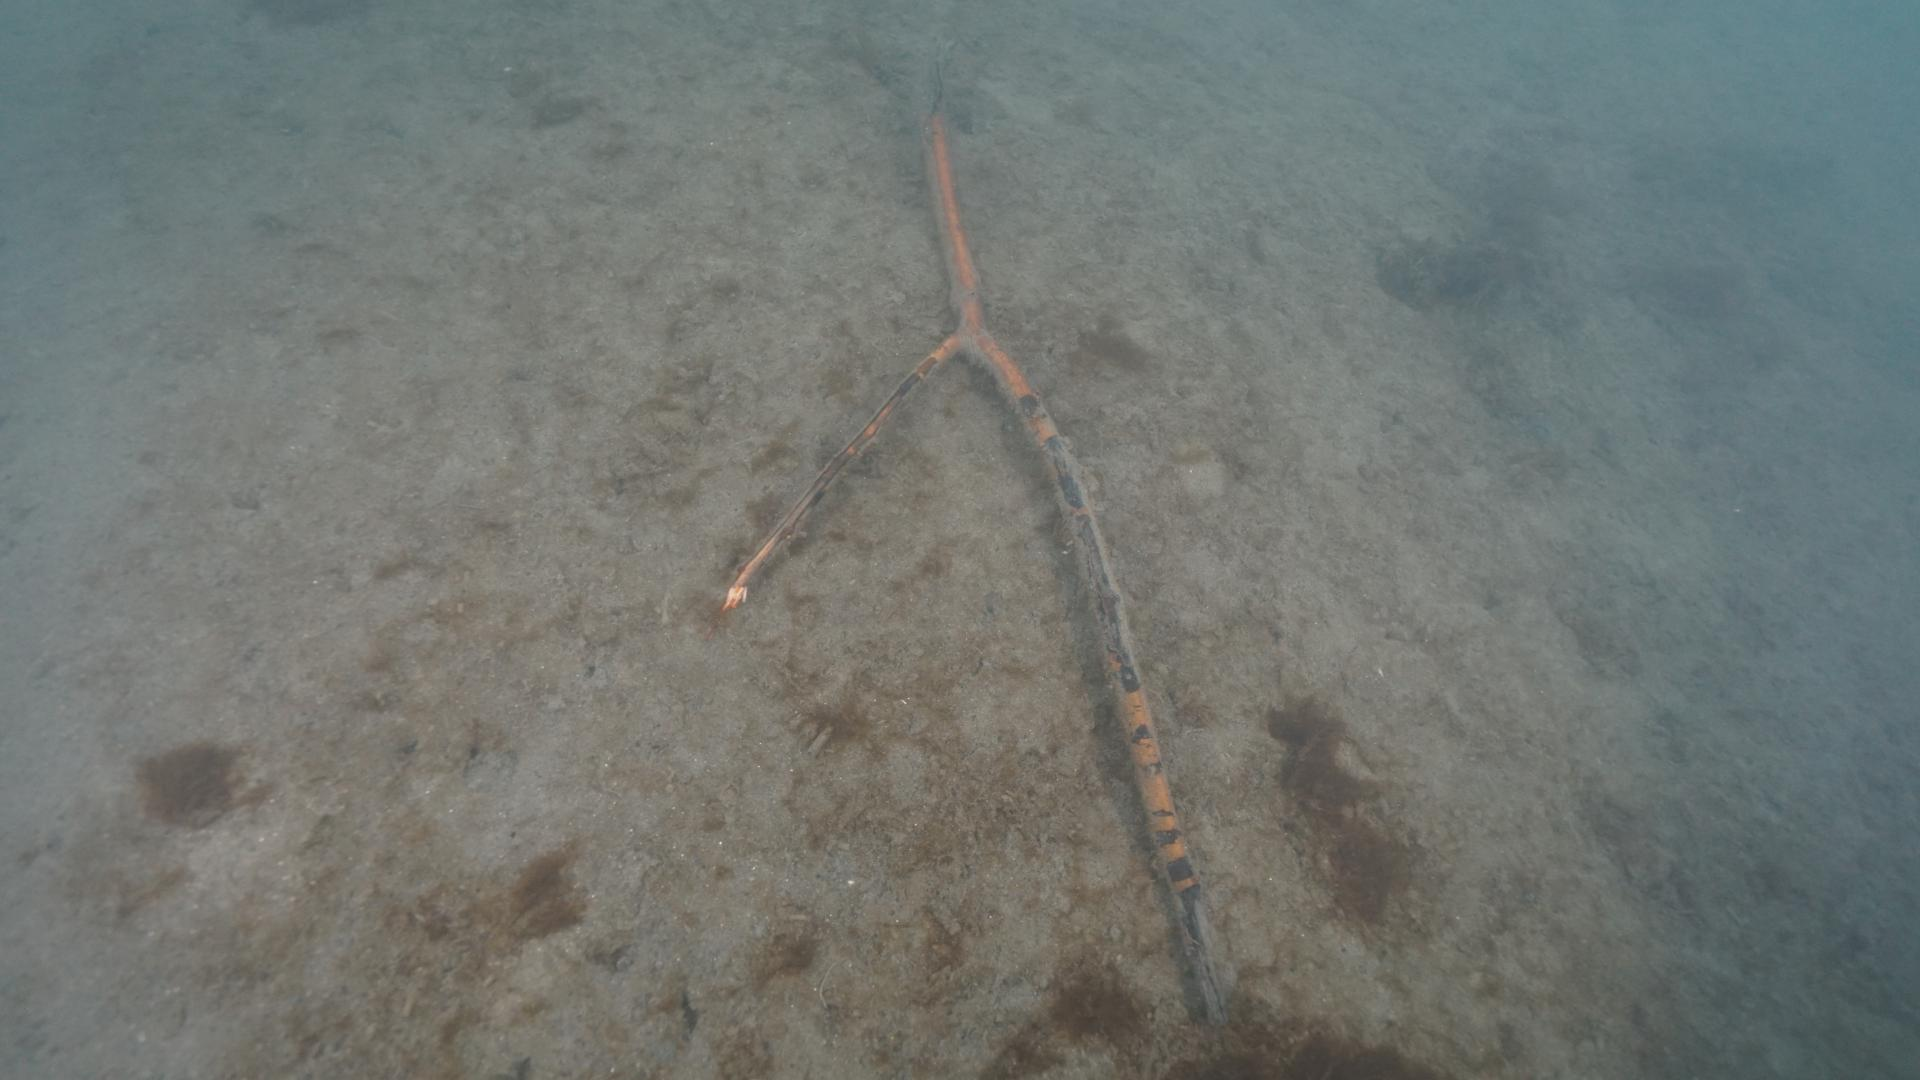wood: (723, 111, 1228, 1031)
